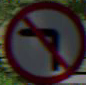Don't turn left: (15, 13, 67, 70)
